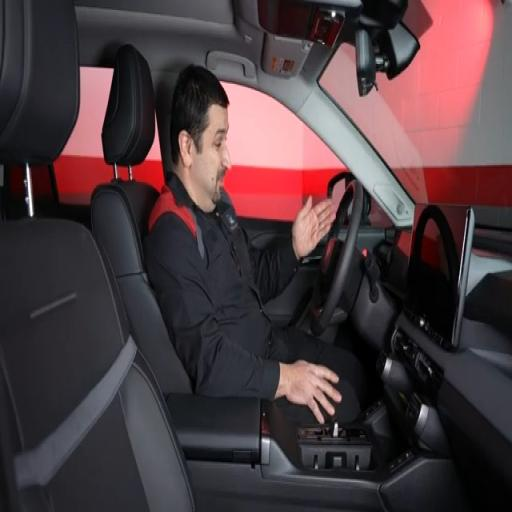window: (224, 83, 346, 220)
windshield: (320, 0, 511, 206)
